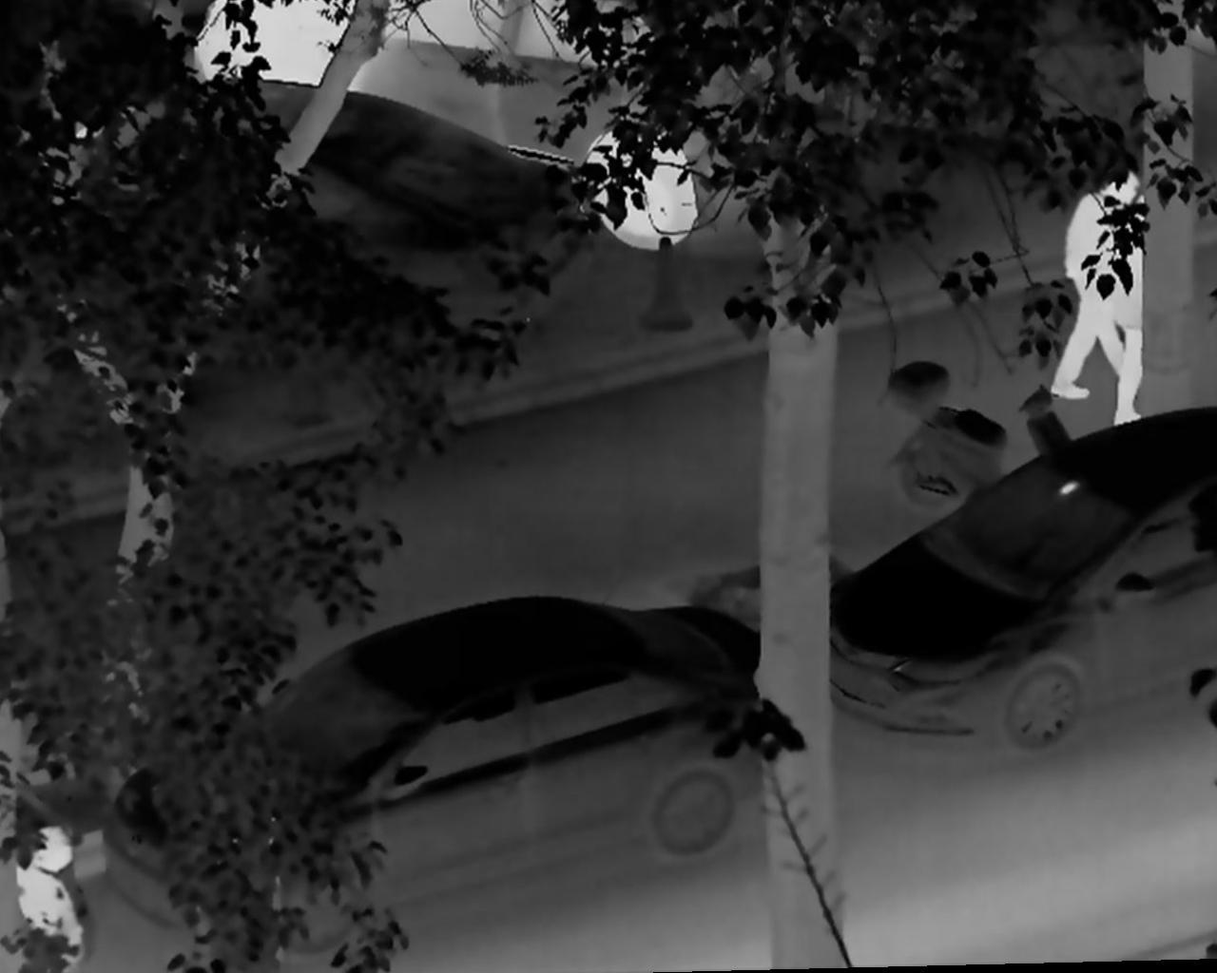person: (1049, 164, 1142, 400), (14, 816, 87, 966), (1107, 186, 1150, 429)
